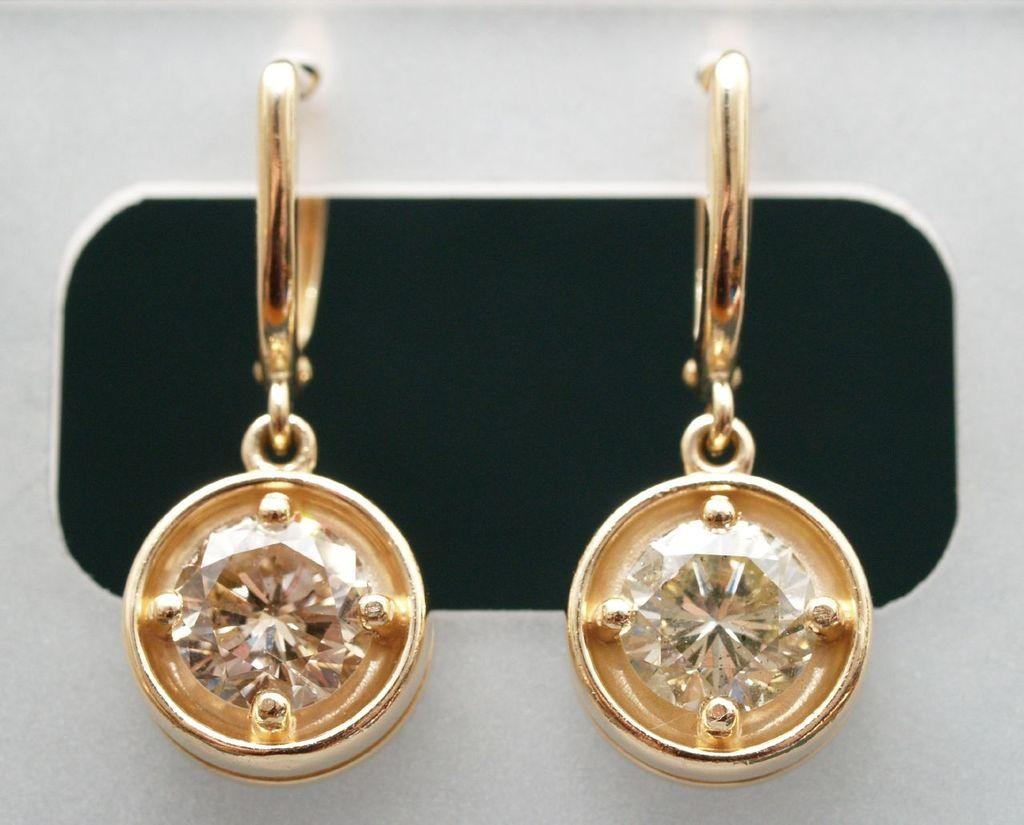earring: (564, 45, 873, 791), (124, 56, 433, 787)
